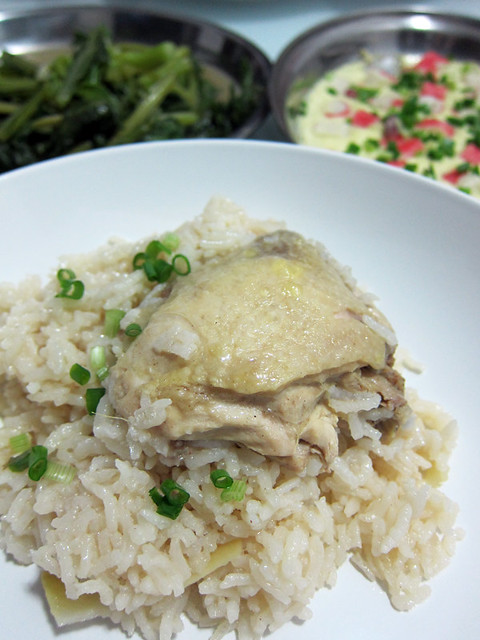Steamed Chicken Rice: (12, 185, 463, 625)
